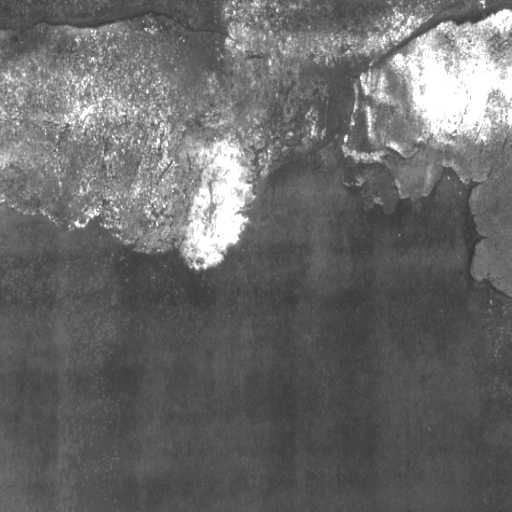qiaopi: (1, 5, 511, 302)
